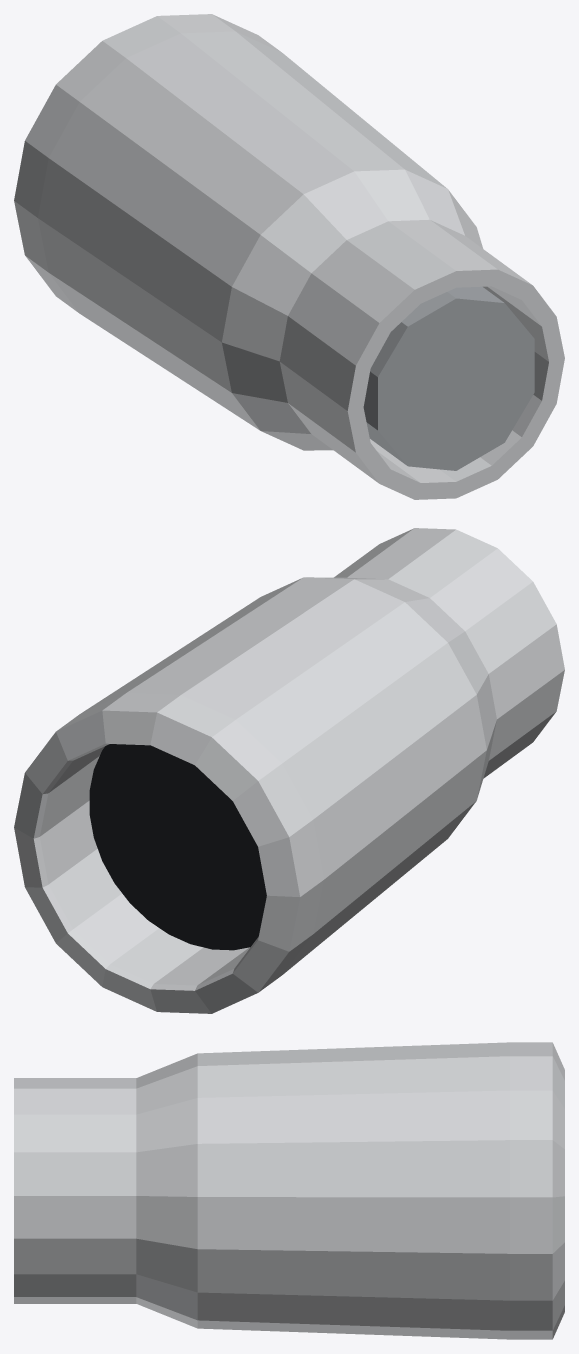
The model's file is catback_street.glb.
3 views of the same model, one above another, from view 1: azimuth 30°, elevation 25°; view 2: azimuth 150°, elevation 25°; view 3: azimuth 270°, elevation 25° (orthographic). The views are drawn at different scales.
Parts seen in each view (by area): view 1: model; view 2: model; view 3: model.
Part boxes in pixels (<box>): model: <box>14,14,564,499</box>; model: <box>14,528,564,1013</box>; model: <box>14,1042,564,1339</box>.
Size of the model in its own units: 0.0972 by 0.0972 by 0.18.
3 materials, 1 textured.
